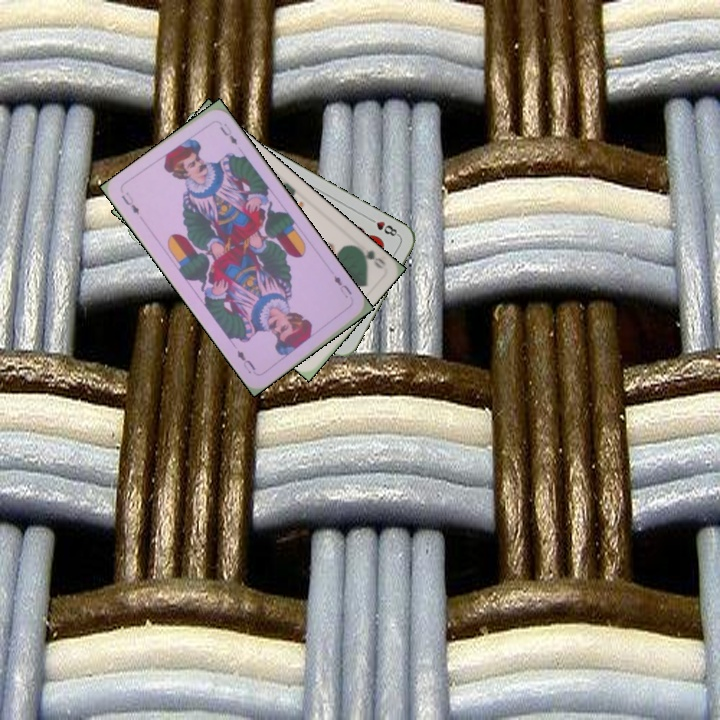EU: (329, 271, 355, 301), (117, 188, 142, 217)
GO: (349, 238, 388, 271)
H8: (364, 214, 402, 239)
